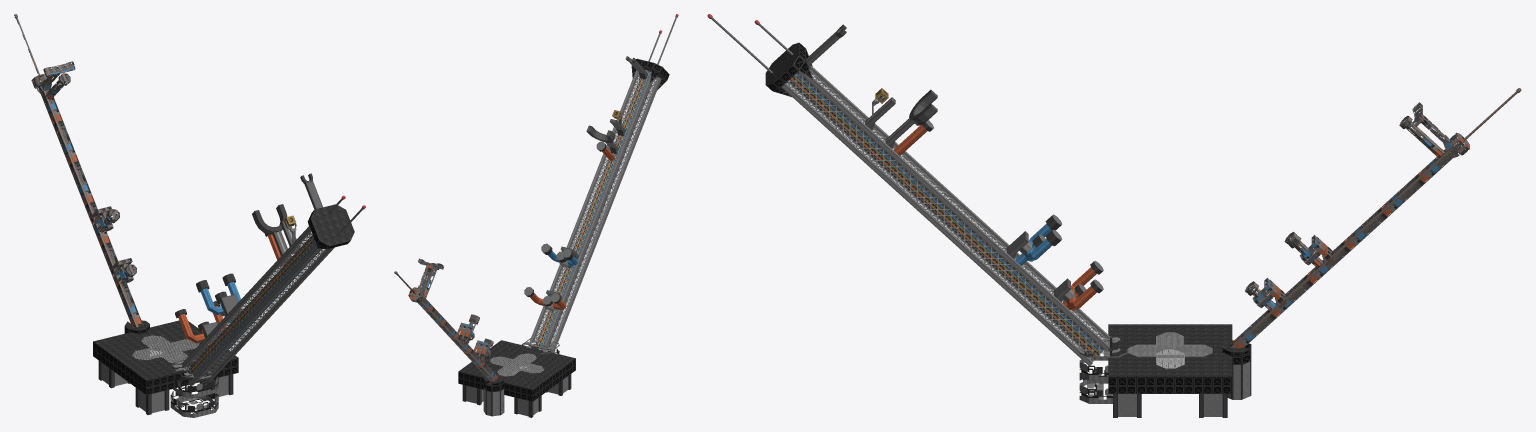
File: soyuz_launch_platform_open.obj
3 views of the same model, side by side, from view 1: azimuth 30°, elevation 25°; view 2: azimuth 150°, elevation 25°; view 3: azimuth 270°, elevation 25° (orthographic). The views are drawn at different scales.
Parts seen in each view (by area): view 1: Plane; view 2: Plane; view 3: Plane.
Boxes of the visible parts, x1,y1,x2,y2 form: Plane: (14, 14, 365, 417); Plane: (394, 14, 678, 417); Plane: (707, 14, 1521, 417).
Bounding box in the file's own units: 13 × 43.91 × 85.33.
